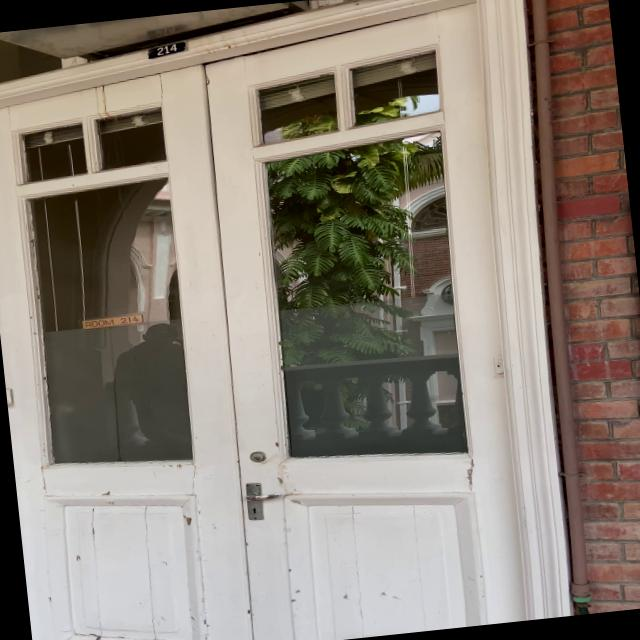room214: (144, 40, 188, 59)
room214Window: (76, 311, 151, 334)
